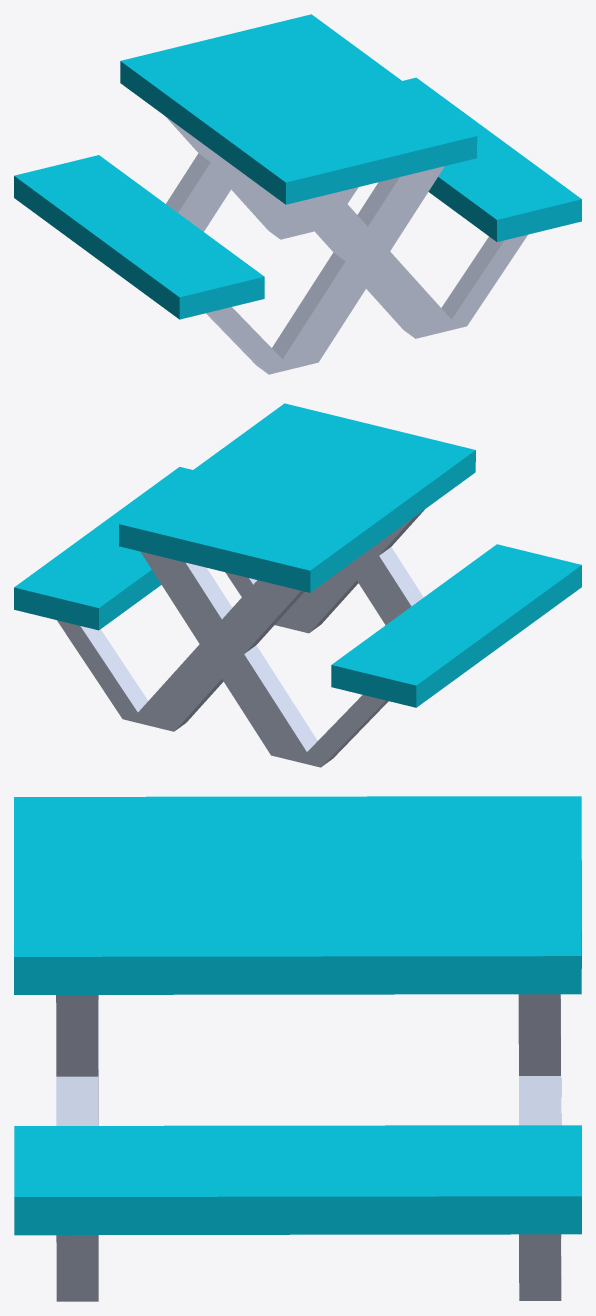
Rendered from Picnic Table.glb.
3 renders of one model, top to bottom at view 1: azimuth 30°, elevation 25°; view 2: azimuth 150°, elevation 25°; view 3: azimuth 270°, elevation 25°, orthographic. The views are drawn at different scales.
Visible parts, largest first — view 1: Table, Seat 1, Seat 2, Leg 7, Leg 6, Leg 2, Leg 5, Leg 3, Leg 8; view 2: Table, Seat 1, Leg 2, Seat 2, Leg 3, Leg 4, Leg 6, Leg 7, Leg 1; view 3: Table, Seat 2, Leg 7, Leg 2, Leg 5, Leg 4, Leg 6, Leg 3.
Part boxes in pixels (x1=…): Table: x1=120, y1=14, x2=477, y2=204; Seat 1: x1=14, y1=155, x2=264, y2=319; Seat 2: x1=403, y1=77, x2=581, y2=241; Leg 7: x1=272, y1=166, x2=444, y2=372; Leg 6: x1=290, y1=192, x2=454, y2=338; Leg 2: x1=166, y1=153, x2=241, y2=231; Leg 5: x1=441, y1=234, x2=527, y2=330; Leg 3: x1=165, y1=116, x2=314, y2=239; Leg 8: x1=206, y1=307, x2=290, y2=374; Table: x1=119, y1=403, x2=475, y2=592; Seat 1: x1=331, y1=544, x2=581, y2=707; Leg 2: x1=140, y1=551, x2=317, y2=761; Seat 2: x1=14, y1=467, x2=192, y2=630; Leg 3: x1=130, y1=580, x2=304, y2=731; Leg 4: x1=57, y1=620, x2=147, y2=724; Leg 6: x1=275, y1=509, x2=424, y2=633; Leg 7: x1=347, y1=547, x2=423, y2=625; Leg 1: x1=298, y1=695, x2=388, y2=767; Table: x1=14, y1=796, x2=581, y2=994; Seat 2: x1=14, y1=1125, x2=581, y2=1235; Leg 7: x1=56, y1=995, x2=98, y2=1105; Leg 2: x1=518, y1=994, x2=561, y2=1124; Leg 5: x1=56, y1=1235, x2=98, y2=1301; Leg 4: x1=519, y1=1234, x2=561, y2=1300; Leg 6: x1=56, y1=1076, x2=98, y2=1125; Leg 3: x1=519, y1=994, x2=561, y2=1255.
Size of the model in its own units: 87.16 by 41.52 by 62.17.
